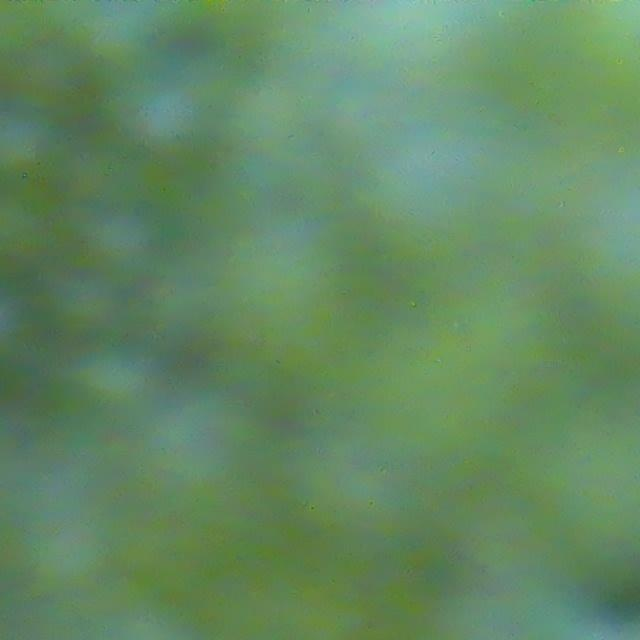SeaGrape: (374, 248, 557, 421), (344, 126, 515, 279), (246, 232, 357, 395), (296, 424, 428, 535), (71, 339, 159, 418), (0, 106, 56, 183)
